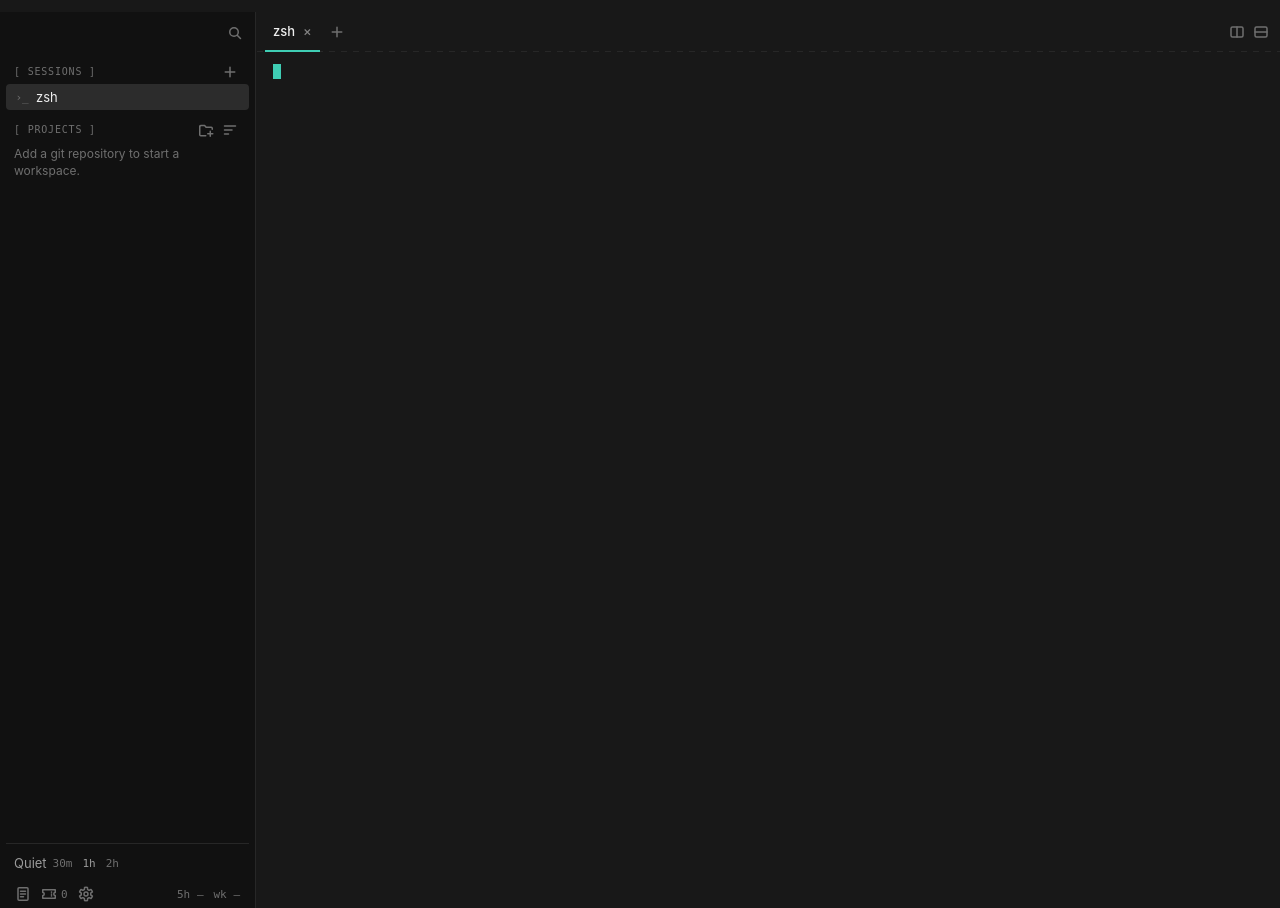
SettingsView › rendering › loads the config: quiet hours, per-day overrides, notifications, protected branches and the path
Click the button named "Settings" at (86, 894), box top-left (74, 883), bottom-right (98, 905)
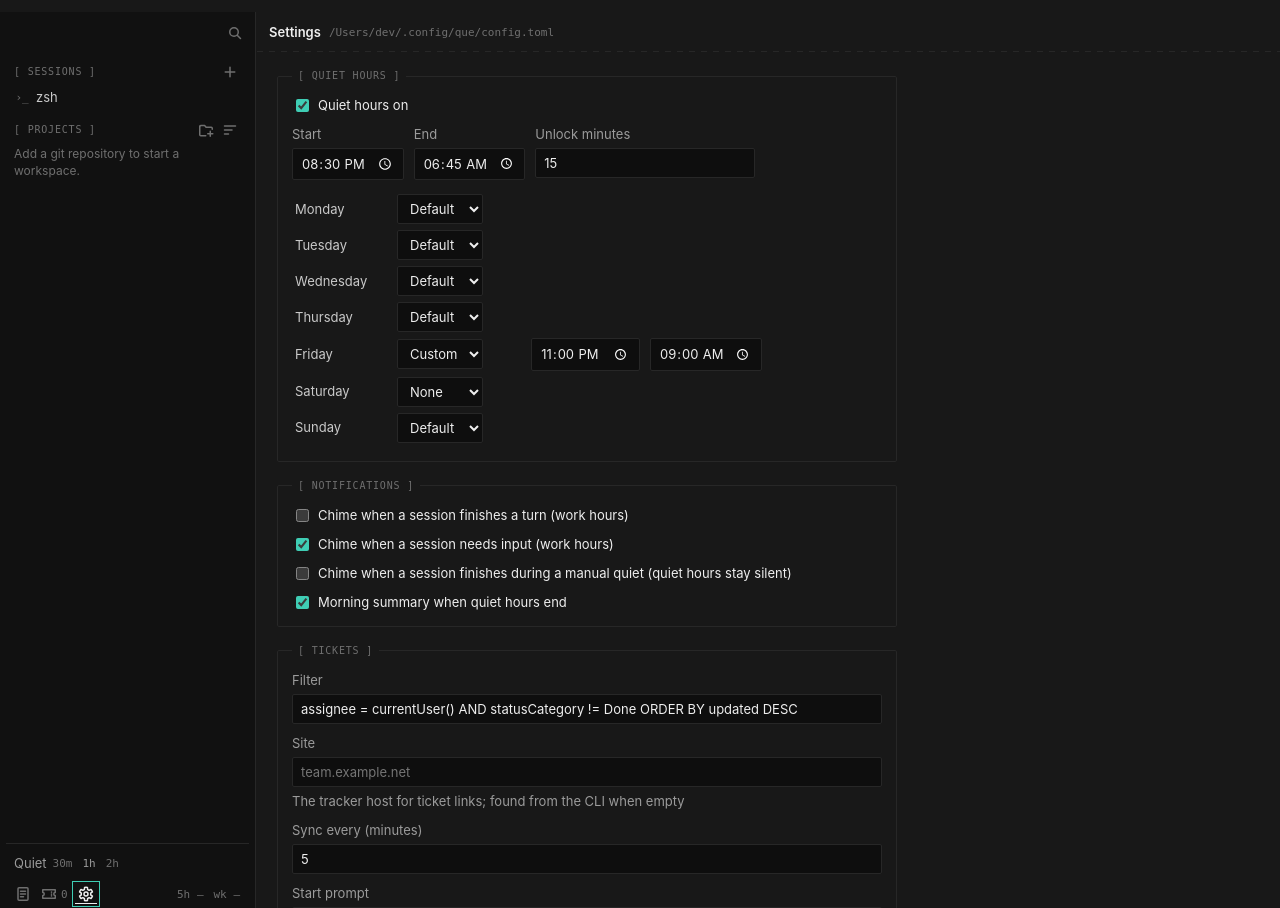
Expected: the time field with test id "settings-quiet-start" holds "20:30", top-left (292, 148), bottom-right (404, 180)
Expected: the time field with test id "settings-quiet-end" holds "06:45", top-left (414, 148), bottom-right (525, 180)
Expected: the checkbox with test id "settings-quiet-enabled" is checked, top-left (296, 99), bottom-right (309, 112)
